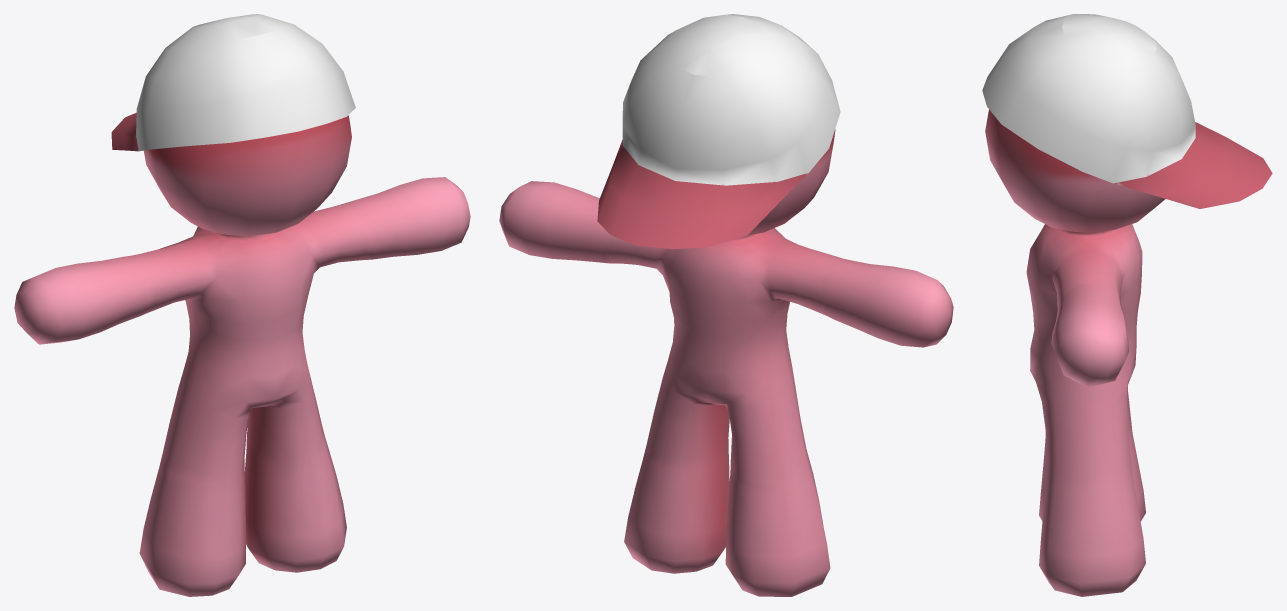
File: Model_Stickman_Pink.fbx
3 renders of one model, left to right at view 1: azimuth 30°, elevation 25°; view 2: azimuth 150°, elevation 25°; view 3: azimuth 270°, elevation 25°, orthographic. The views are drawn at different scales.
Parts seen in each view (by area): view 1: Model_Stickman_Pink; view 2: Model_Stickman_Pink; view 3: Model_Stickman_Pink.
Boxes of the visible parts, x1,y1,x2,y2 form: Model_Stickman_Pink: (14, 14, 470, 596); Model_Stickman_Pink: (499, 14, 953, 596); Model_Stickman_Pink: (982, 14, 1272, 596).
Bounding box in the file's own units: 218 × 258 × 127.
